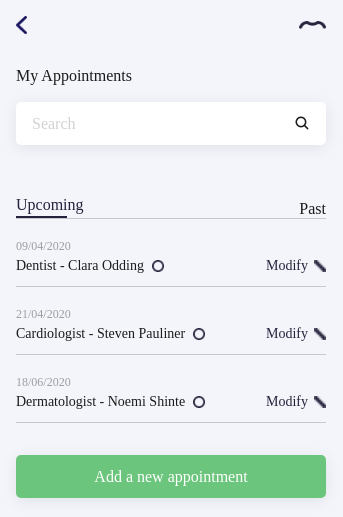
TimeManagementScreen › shows no appointments when the Past tab is active
Click the tab with test id "tab-past".
click(313, 208)  # box [299,199,326,218]
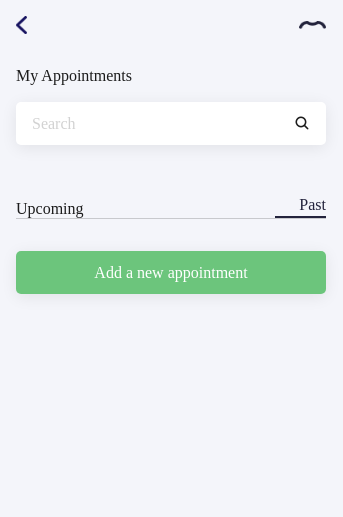
Now the text "Dentist - Clara Odding" is gone
